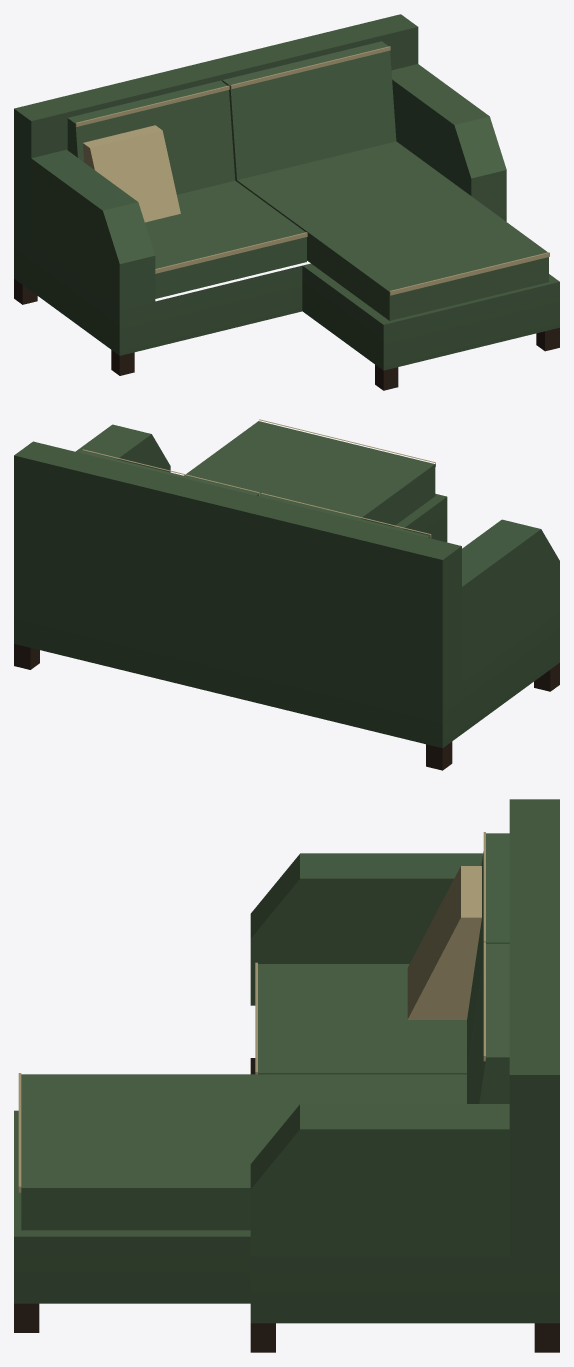
The model's file is sofa.corner.green.glb.
The picture shows the model from 3 angles, top to bottom: view 1: azimuth 30°, elevation 25°; view 2: azimuth 150°, elevation 25°; view 3: azimuth 270°, elevation 25°; orthographic projection. The views are drawn at different scales.
Parts seen in each view (by area): view 1: sofa_corner_green; view 2: sofa_corner_green; view 3: sofa_corner_green.
Part boxes in pixels (box(x1,y1,x2,y2)): sofa_corner_green: box(14, 14, 559, 390); sofa_corner_green: box(14, 419, 559, 770); sofa_corner_green: box(14, 799, 559, 1352).
Size of what is drawn, in the model's own units: 1.81 by 0.85 by 1.51.
